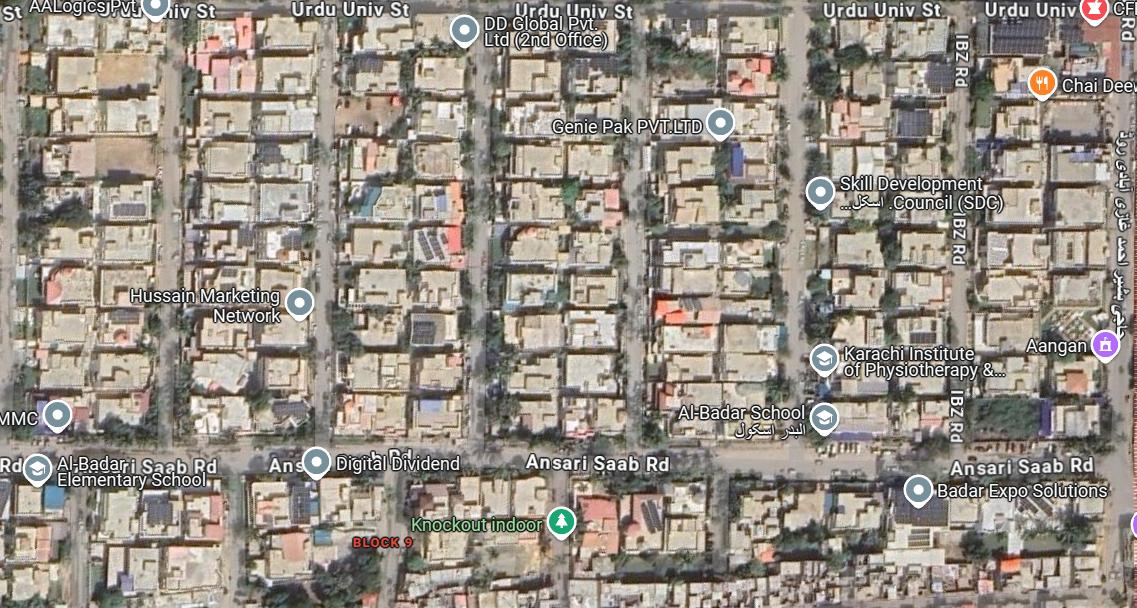Buildings: (571, 469, 1108, 607), (16, 15, 166, 437), (175, 19, 320, 440), (810, 11, 954, 433), (966, 12, 1109, 434), (487, 14, 629, 430), (334, 14, 472, 436), (651, 16, 786, 430), (399, 475, 549, 608), (246, 478, 388, 608), (97, 480, 222, 607)
